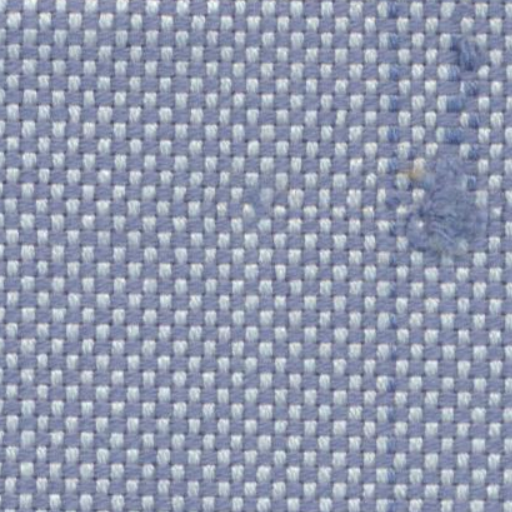DuanSha: (397, 34, 498, 259)
